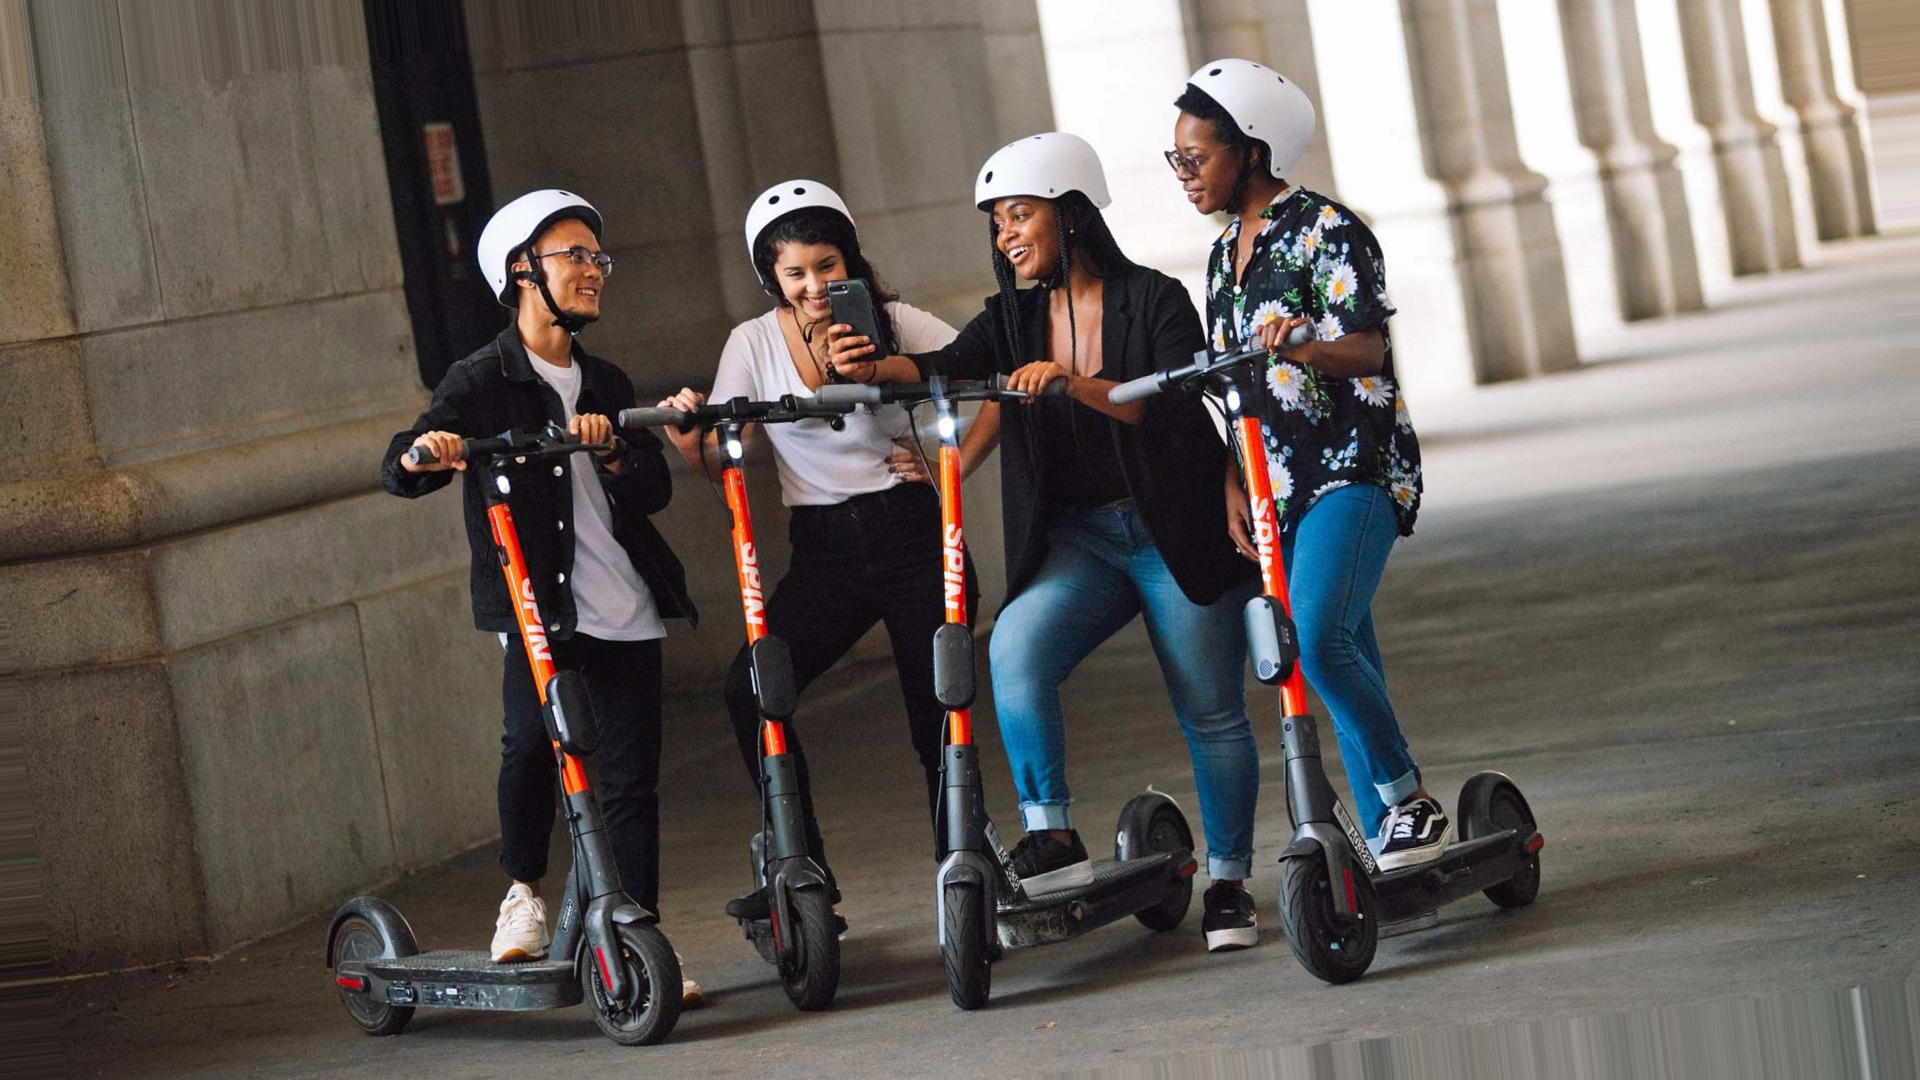scooter: (1109, 316, 1549, 985), (815, 368, 1200, 1011), (326, 413, 680, 1051), (618, 390, 858, 1015)
with helmet: (1160, 55, 1324, 220), (471, 178, 616, 339), (973, 123, 1113, 289), (745, 175, 860, 320)
